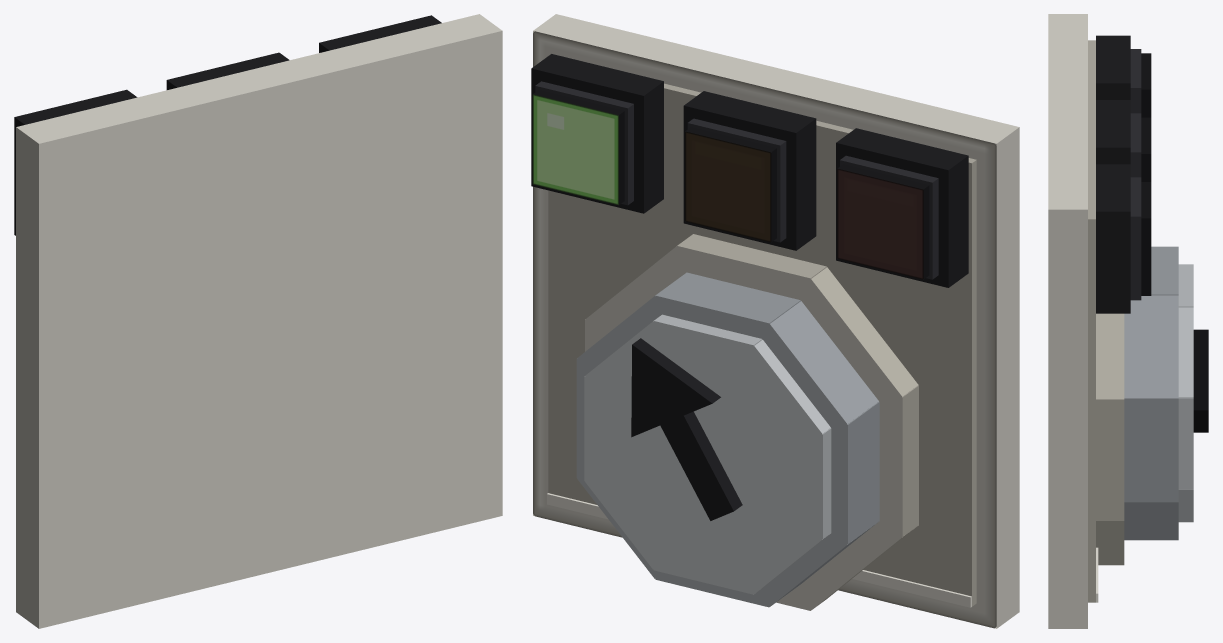
The model's file is knob_switch3_green.obj.
The picture shows the model from 3 angles, left to right: view 1: azimuth 30°, elevation 25°; view 2: azimuth 150°, elevation 25°; view 3: azimuth 270°, elevation 25°; orthographic projection. The views are drawn at different scales.
Visible parts, largest first — view 1: Panel, LampRed, LampOrange, LampGreen; view 2: Panel, Knob, LampOrange, LampGreen, LampRed; view 3: Panel, Knob, LampGreen, LampRed, LampOrange.
Boxes of the visible parts, x1,y1,x2,y2 form: Panel: (16,14,502,628); LampRed: (14,89,137,235); LampOrange: (166,52,289,89); LampGreen: (319,15,441,52); Panel: (533,14,1019,628); Knob: (576,234,918,610); LampOrange: (683,91,816,250); LampGreen: (531,54,663,213); LampRed: (836,128,968,287); Panel: (1048,14,1098,628); Knob: (1096,246,1208,565); LampGreen: (1096,164,1151,313); LampRed: (1096,35,1151,117); LampOrange: (1096,100,1151,181).
Size of the model in its own units: 0.875 by 0.8875 by 0.3038.
Materials: 1 (1 with a texture image).
